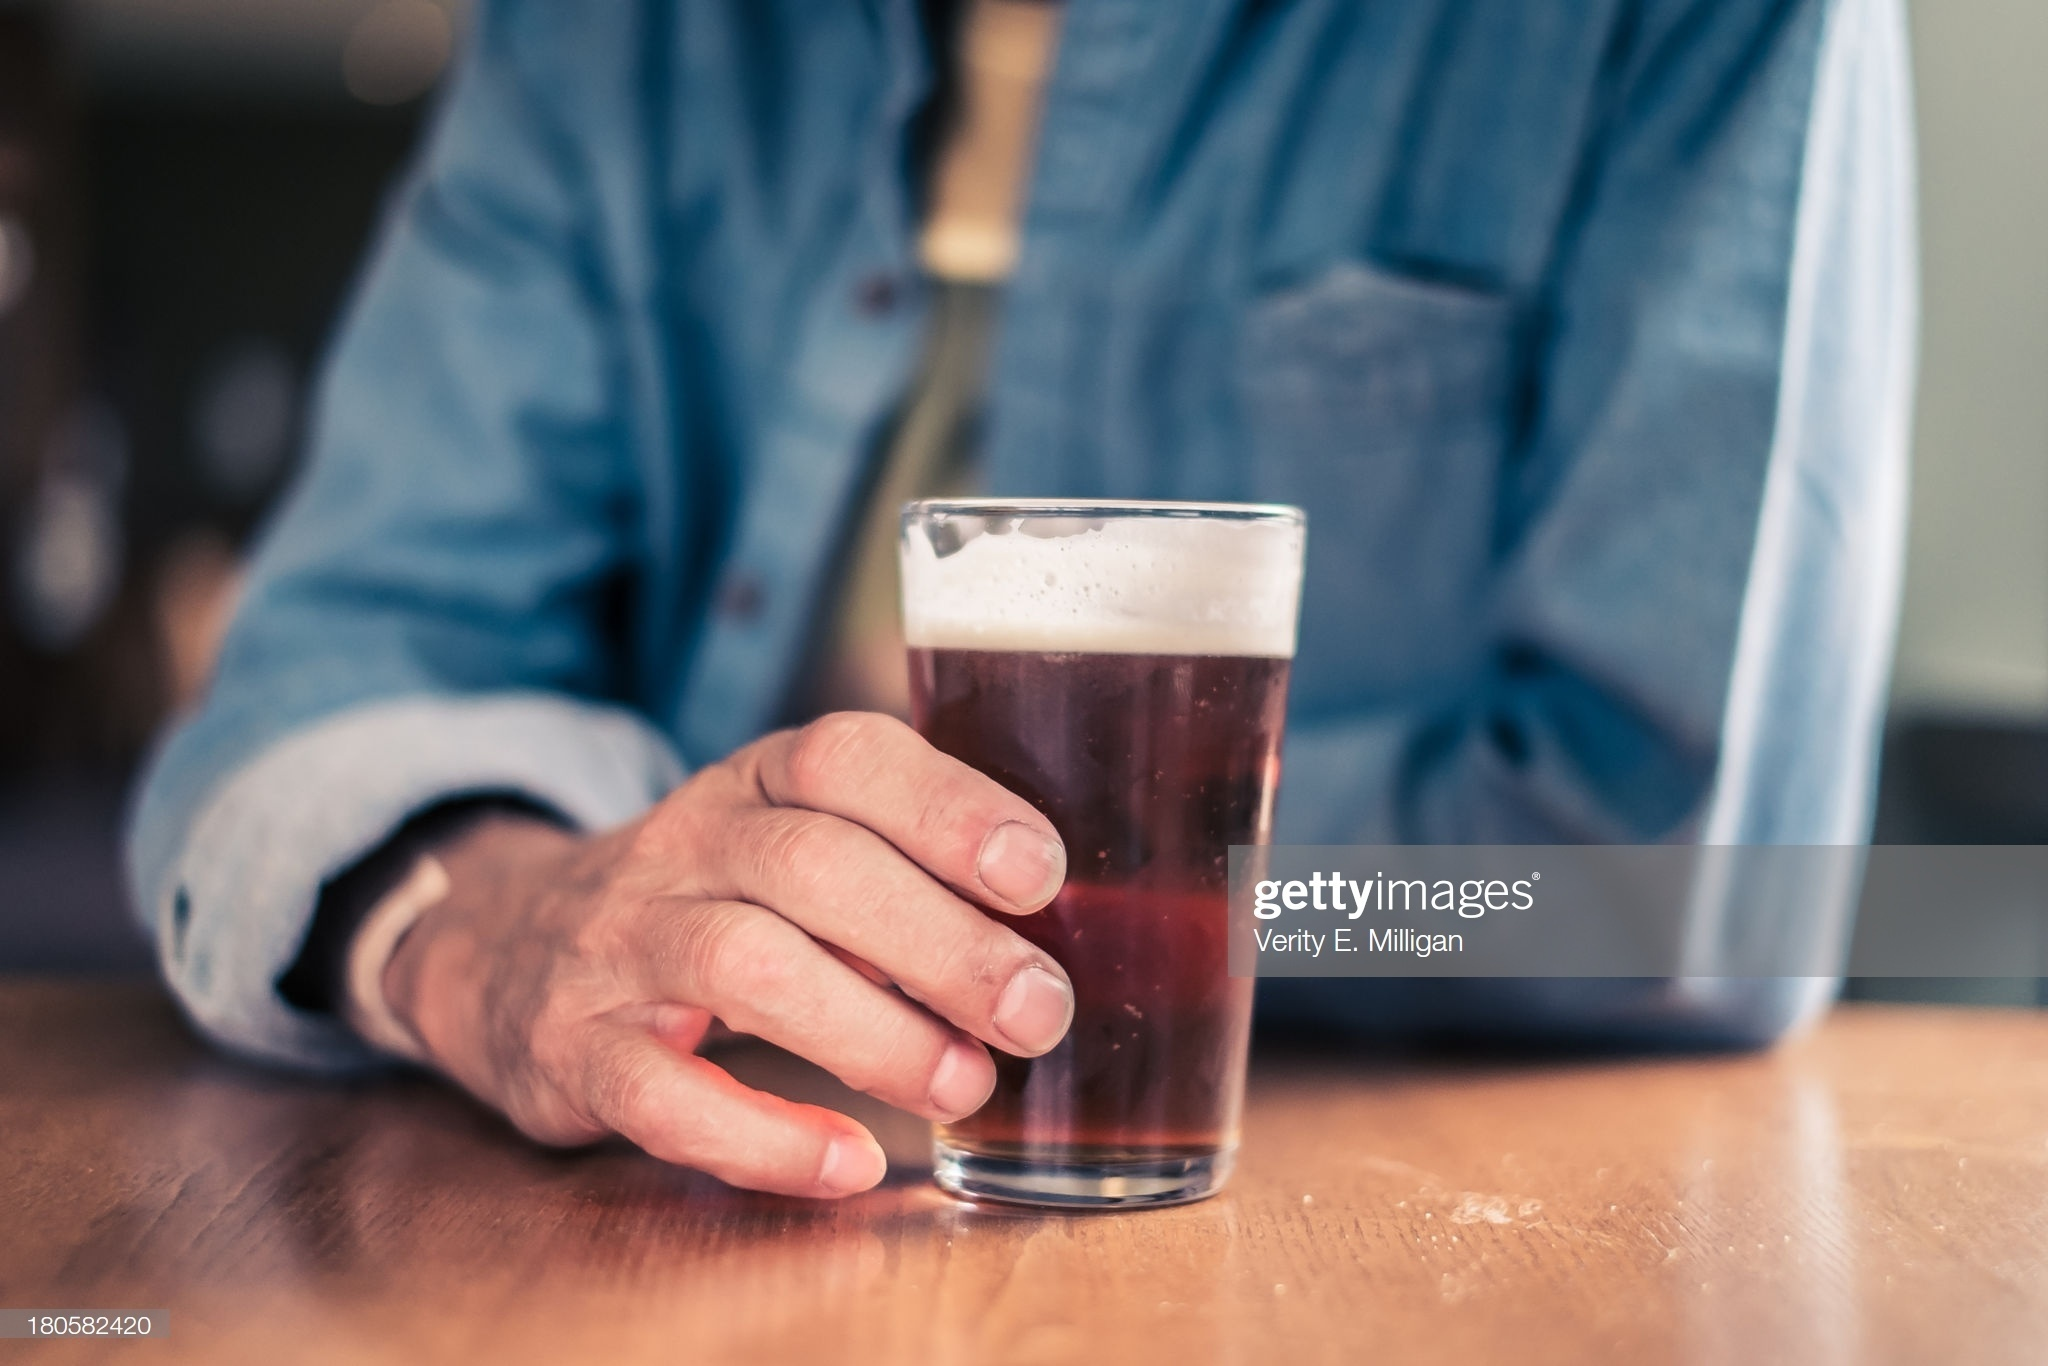whiskey: (896, 486, 1310, 1204)
